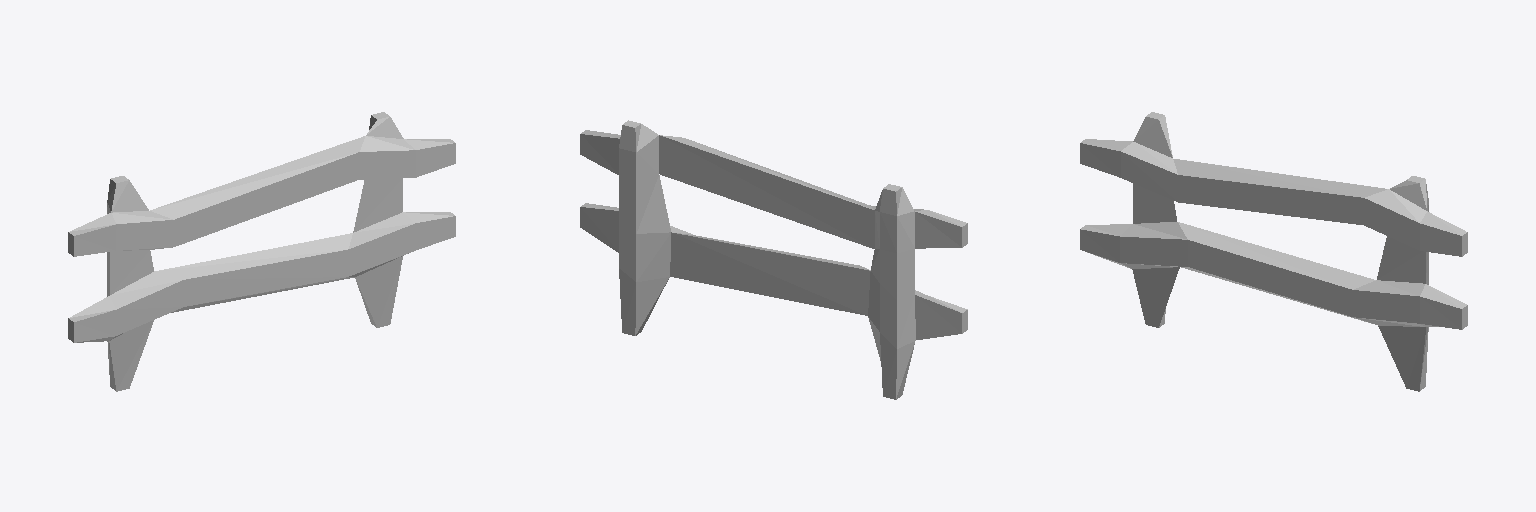
The model's file is barrière1.obj.
The picture shows the model from 3 angles: view 1: azimuth 30°, elevation 25°; view 2: azimuth 150°, elevation 25°; view 3: azimuth 330°, elevation 25°; orthographic projection.
Parts seen in each view (by area): view 1: Barriere1; view 2: Barriere1; view 3: Barriere1.
Part boxes in pixels (bbox=[...]): Barriere1: bbox=[68, 112, 455, 391]; Barriere1: bbox=[580, 120, 967, 399]; Barriere1: bbox=[1080, 112, 1467, 391].
Bounding box in the file's own units: 12.33 × 6.43 × 1.11.